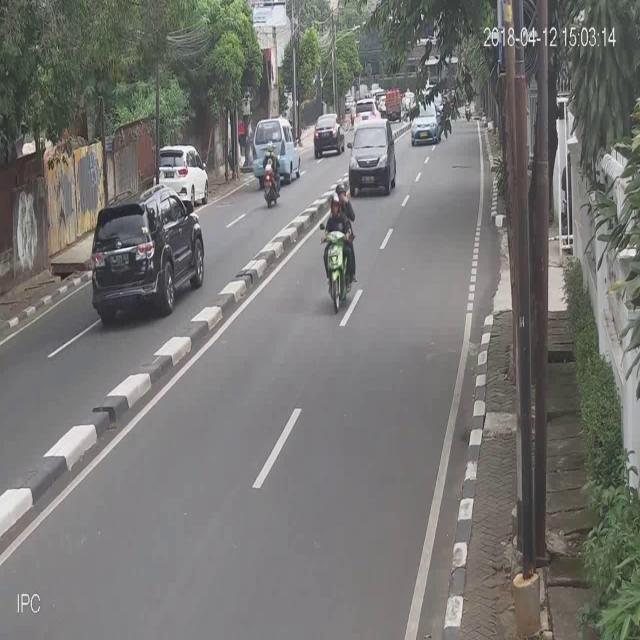bus: (319, 180, 357, 312), (260, 137, 282, 212)
motorcycle: (90, 184, 204, 320), (347, 120, 396, 199), (153, 140, 210, 206), (252, 112, 302, 183), (314, 109, 346, 159)
